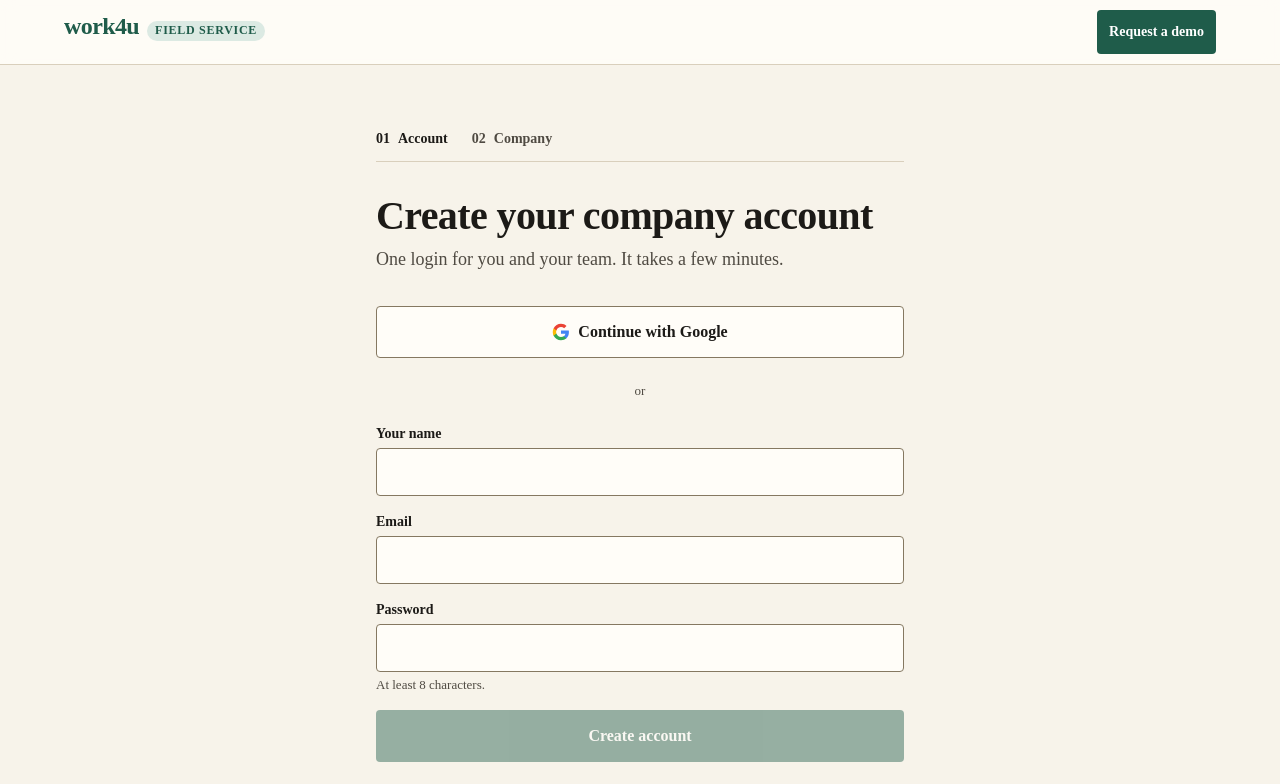
Test: company start › short passwords are refused before any request; an existing account explains itself
This screenshot has width=1280, height=784.
Step 1. Type "n@b.co" into the field labelled "Email" → (640, 560), box [376,536,904,584]
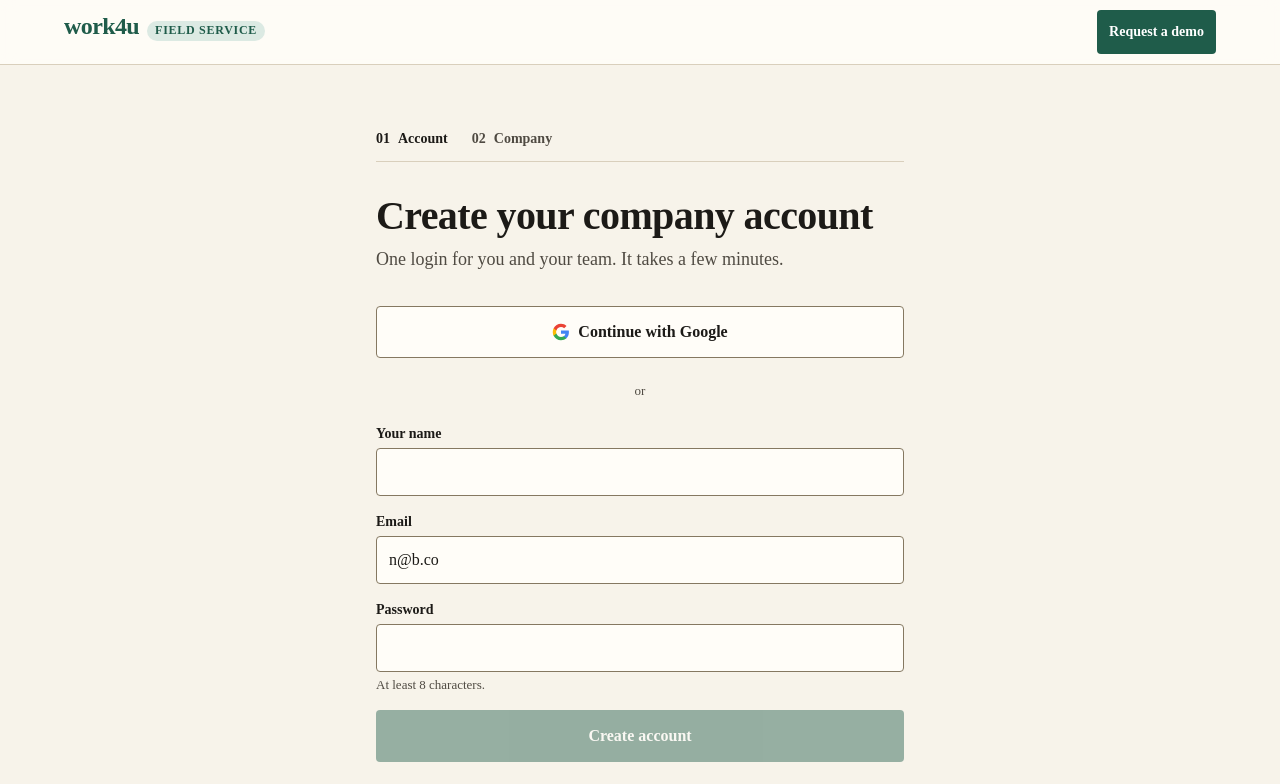
Step 2. Type "short" into the password field labelled "Password" → (640, 648), box [376,624,904,672]
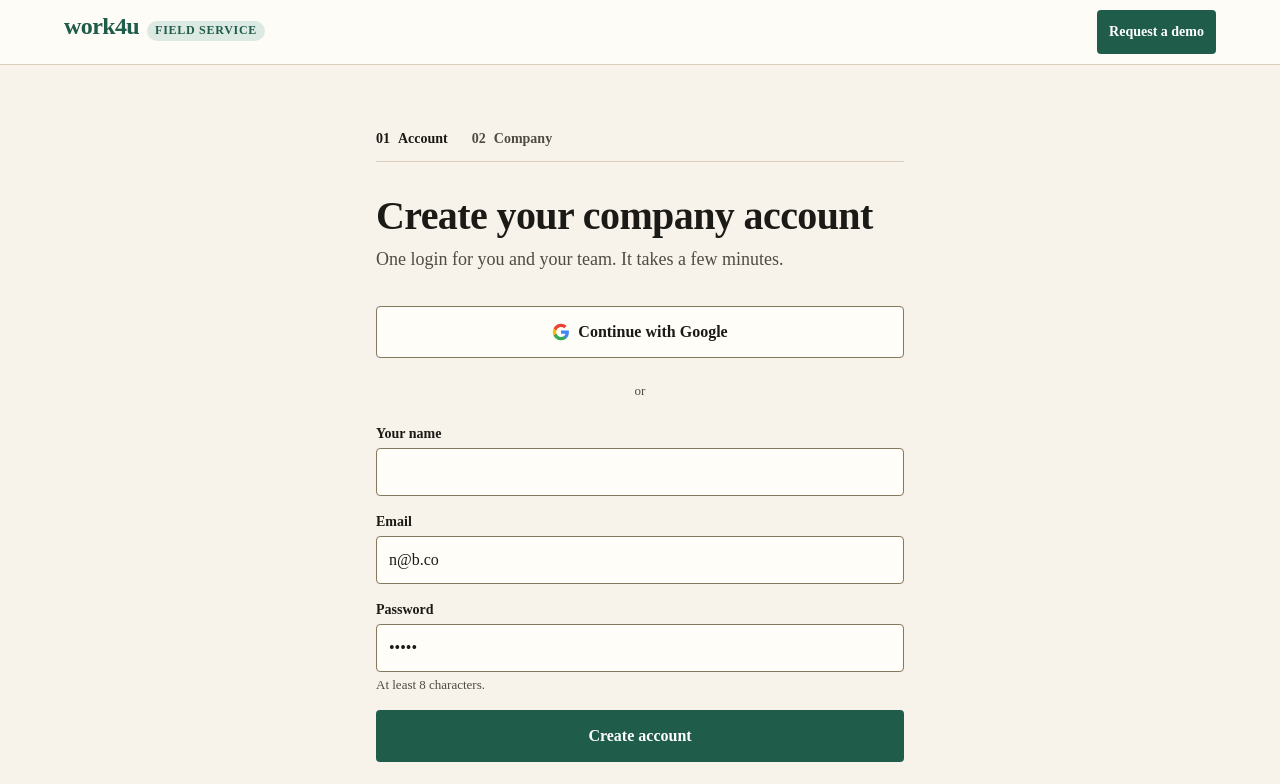
Step 3. Click the button "Create account" → click(640, 736), box [376,710,904,762]
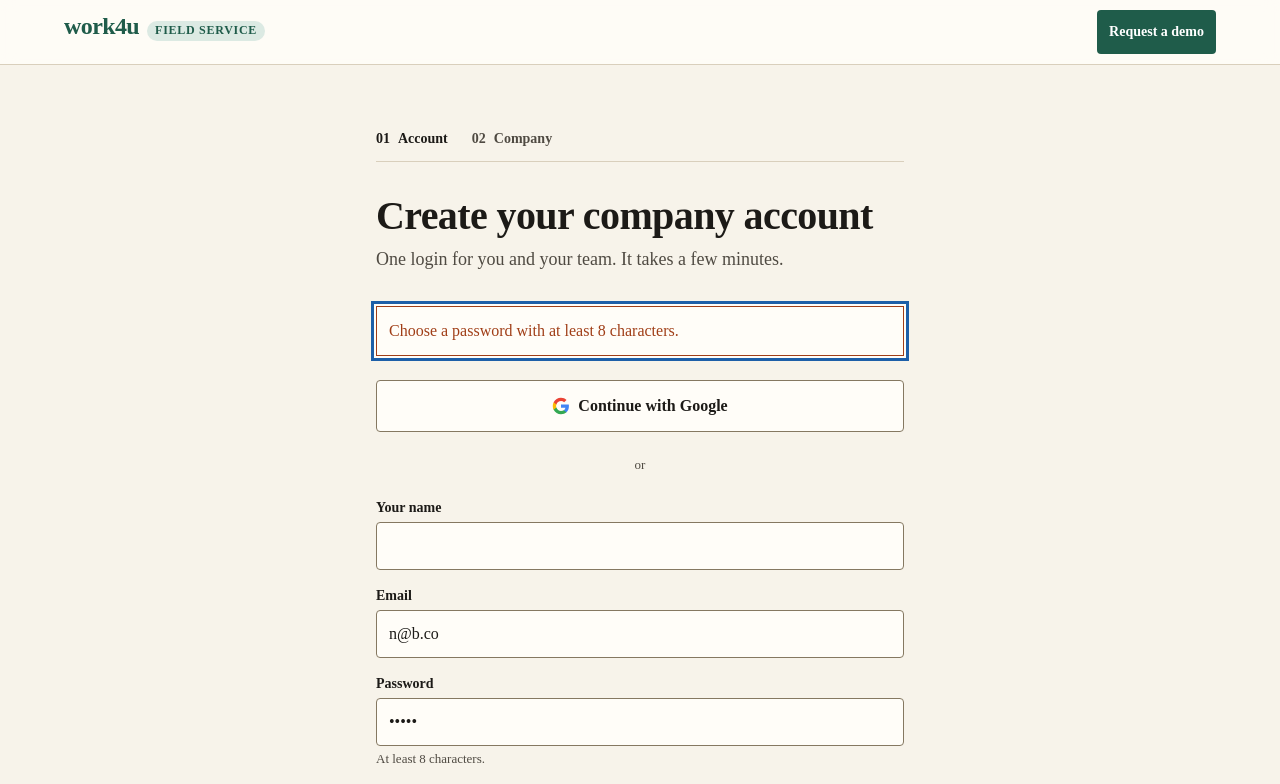
Result: the message shows "8 characters" at [389,322,679,339]
Step 4. Type "longenough1" into the password field labelled "Password" → (640, 722), box [376,698,904,746]
(page scrolled)
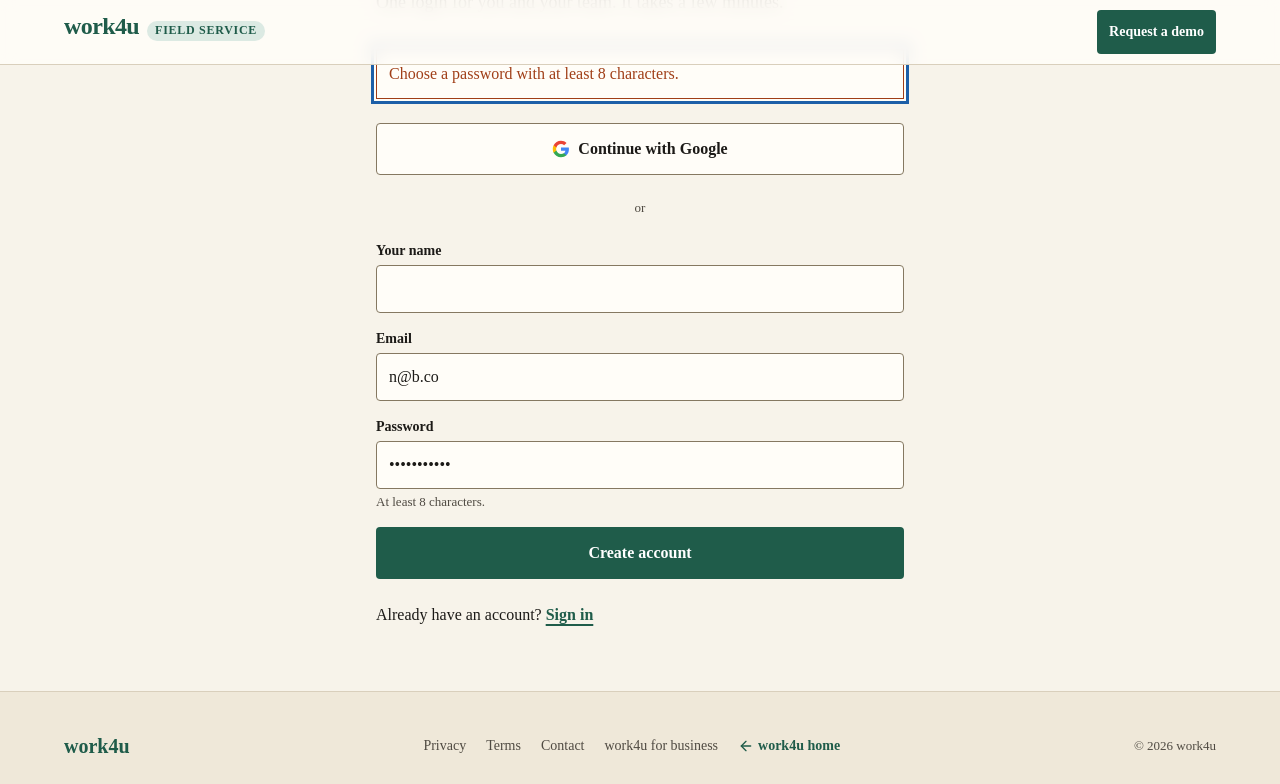
Step 5. Click the button "Create account" → click(640, 553), box [376,527,904,579]
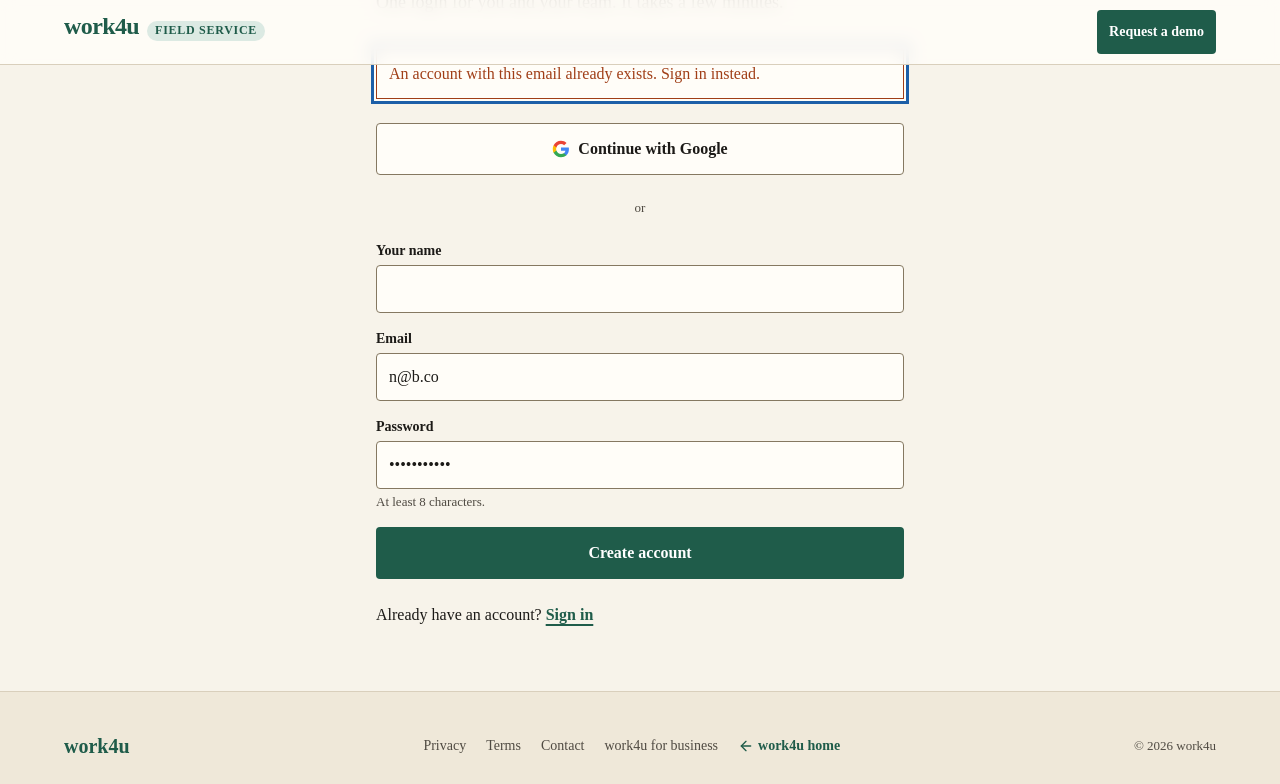
Result: the message shows "already exists" at [389,65,760,82]
